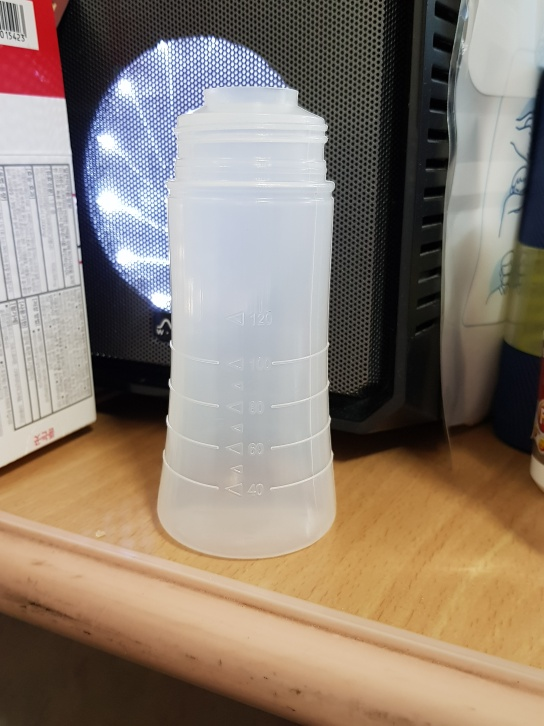Plastic: (158, 84, 340, 567)
